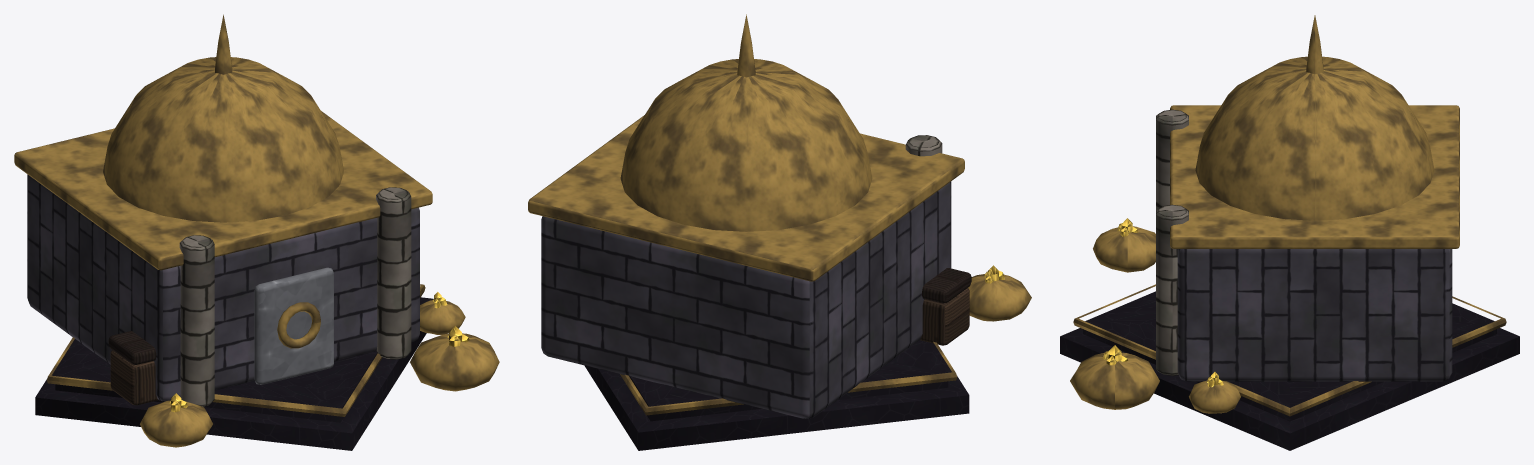
Rendered from treasury.glb.
3 views of the same model, side by side, from view 1: azimuth 30°, elevation 25°; view 2: azimuth 150°, elevation 25°; view 3: azimuth 270°, elevation 25° (orthographic). The views are drawn at different scales.
Parts seen in each view (by area): view 1: Base, Lid; view 2: Base, Lid; view 3: Base.
Boxes of the visible parts, bbox=[...] form: Base: bbox=[14, 14, 499, 450]; Lid: bbox=[108, 331, 156, 364]; Base: bbox=[528, 14, 1031, 450]; Lid: bbox=[922, 268, 971, 303]; Base: bbox=[1060, 15, 1519, 450].
Size of the model in its own units: 1.84 by 1.5 by 1.84.
Materials: 9 (9 with a texture image).
